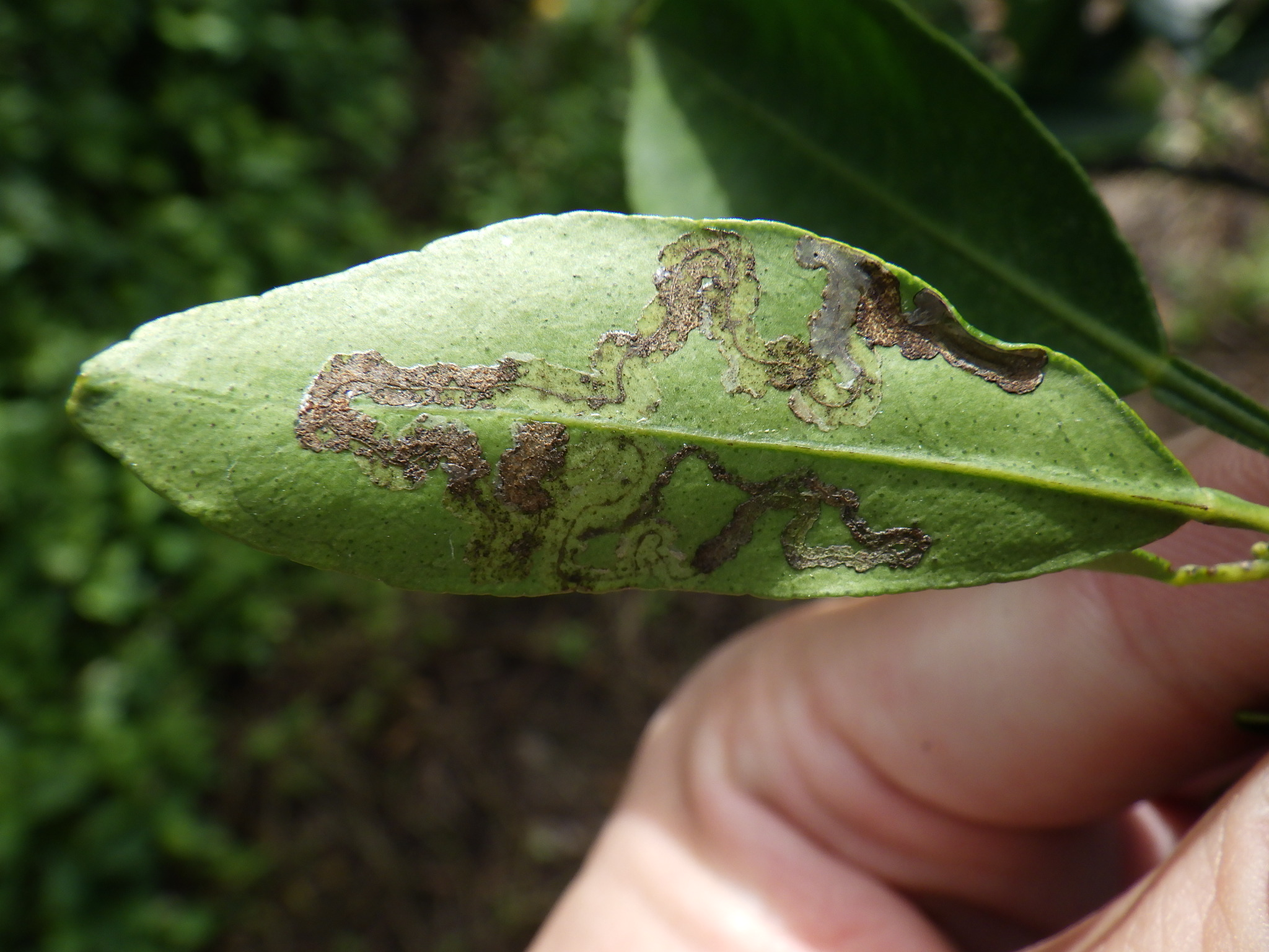Citrus_Leaf_Miner: (296, 227, 1047, 483), (644, 445, 932, 573), (496, 420, 567, 513)
